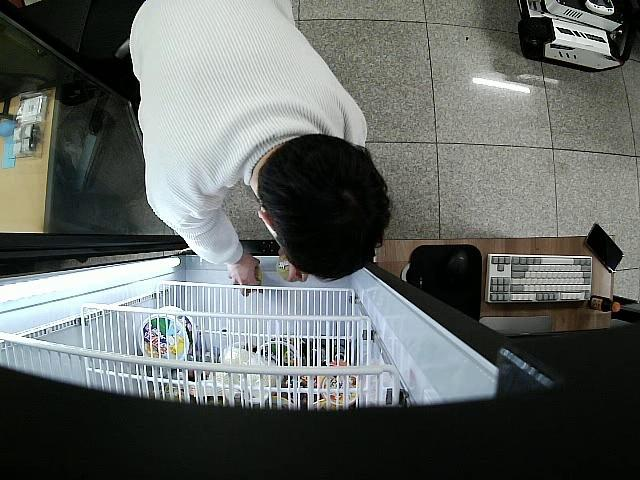00_hand: (225, 254, 265, 296)
